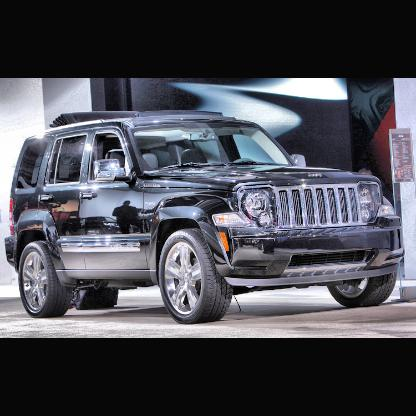Jeep Liberty SUV 2012: (4, 108, 407, 326)
